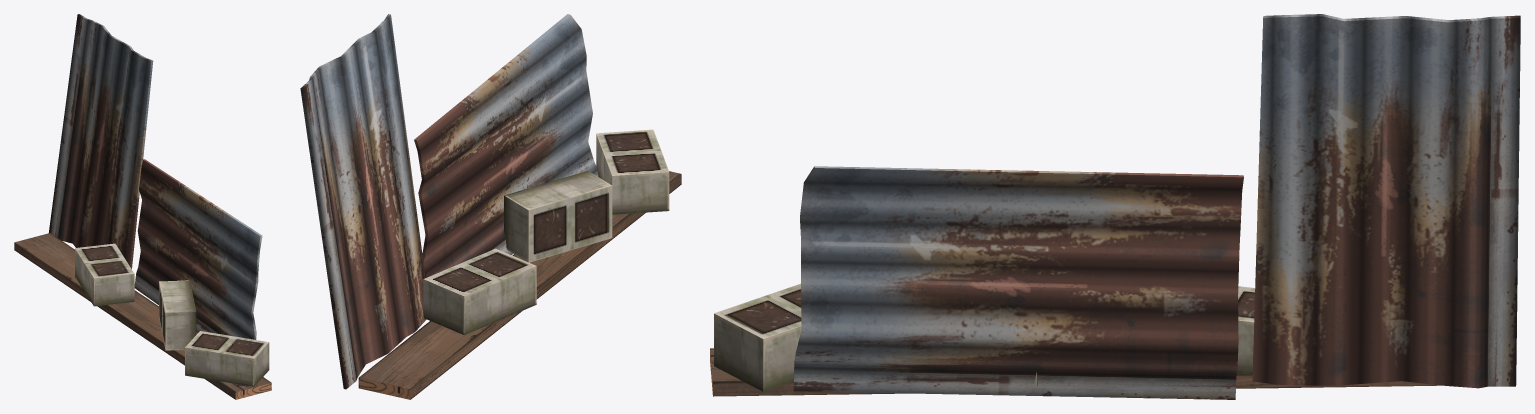
File: raisedBed_dressing04.fbx
The picture shows the model from 3 angles, left to right: view 1: azimuth 30°, elevation 25°; view 2: azimuth 150°, elevation 25°; view 3: azimuth 270°, elevation 25°; orthographic projection. The views are drawn at different scales.
Visible parts, largest first — view 1: raisedBed_dressing04; view 2: raisedBed_dressing04; view 3: raisedBed_dressing04.
Part boxes in pixels (x1,y1,x2,y2): raisedBed_dressing04: [14, 14, 271, 399]; raisedBed_dressing04: [300, 14, 681, 399]; raisedBed_dressing04: [710, 14, 1520, 399].
Size of the model in its own units: 58.79 by 140 by 254.
